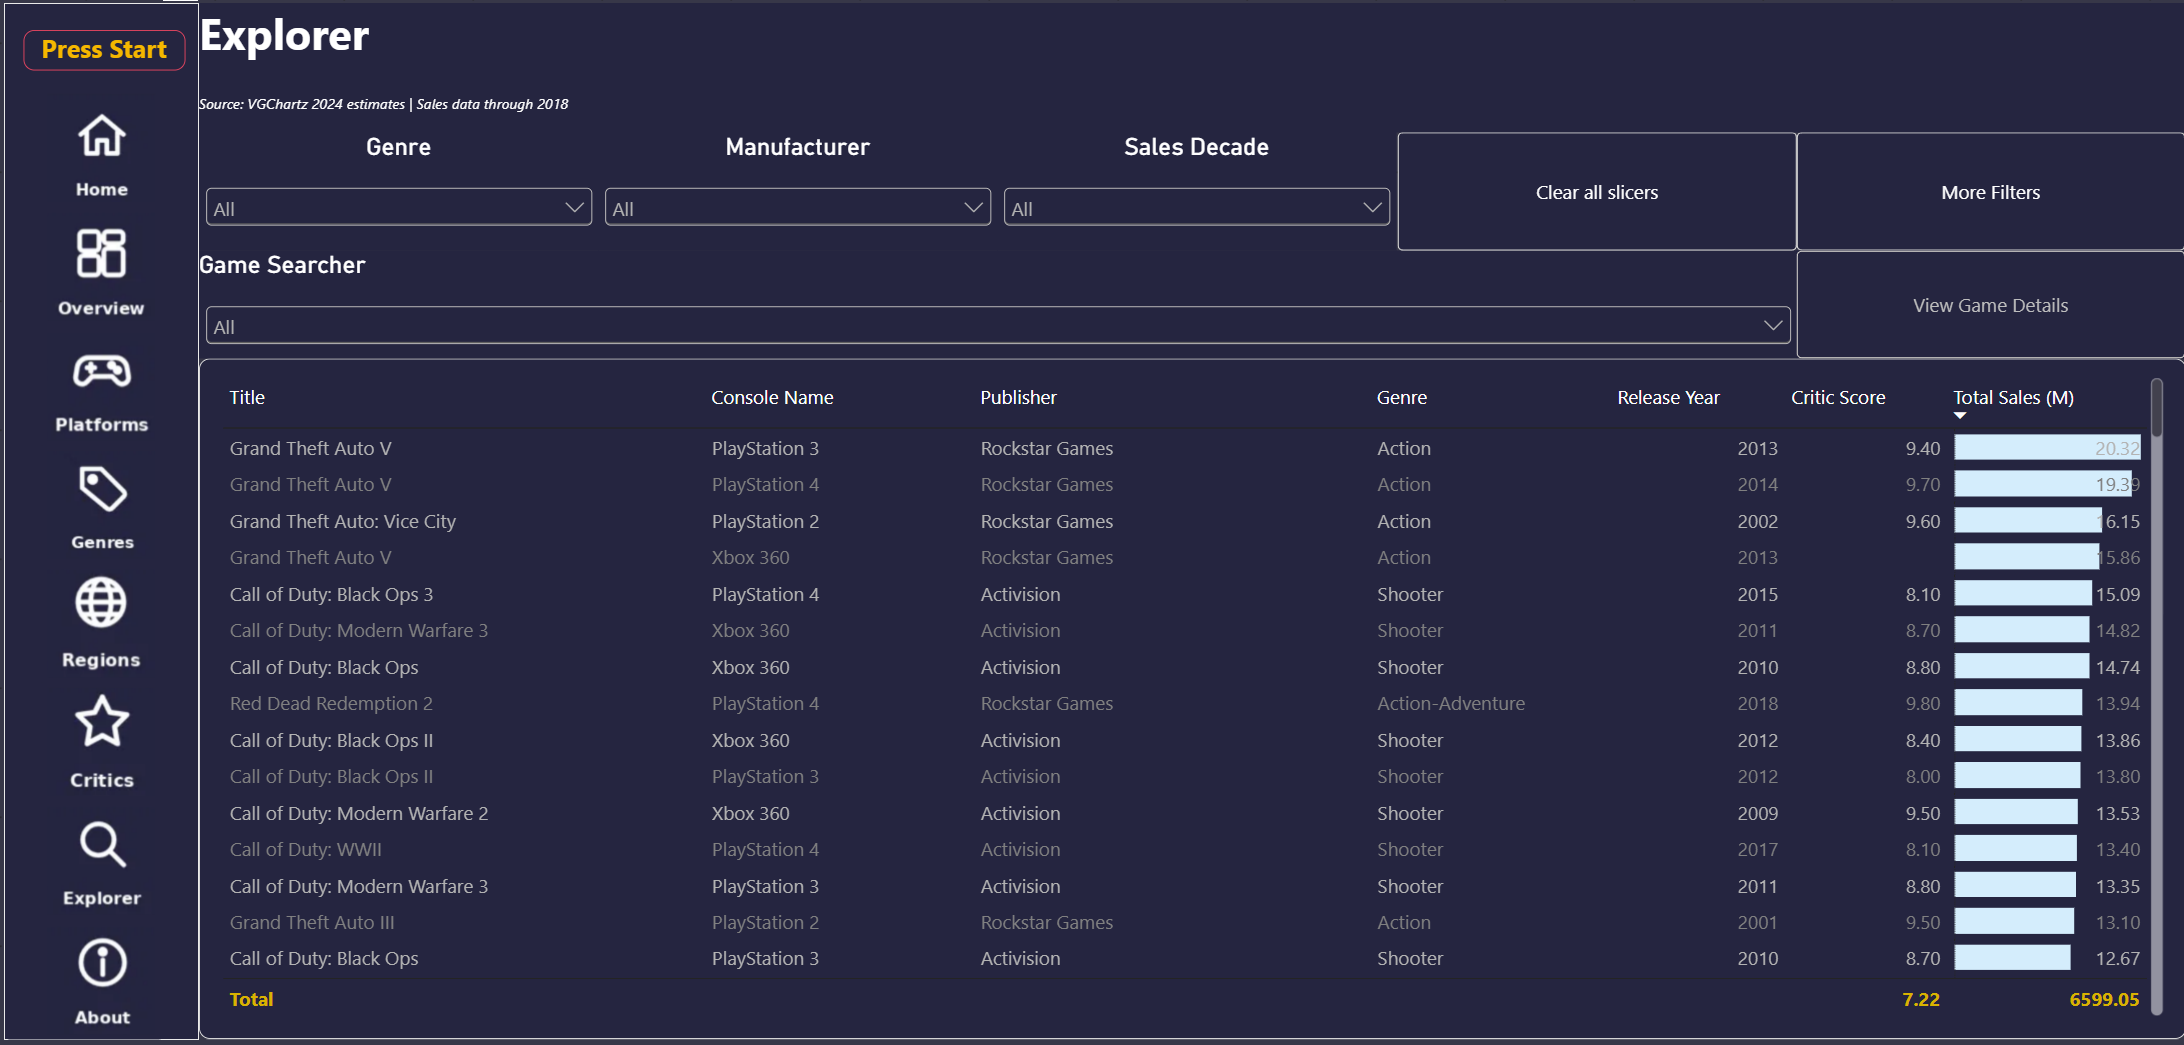

What the dashboard file says about the page in this screenshot:
{"tool":"powerbi","page":{"name":"Explorer","canvas":[1920,1080],"ordinal":6},"visuals":[{"type":"shape","box":[35.6,66.3,144,768],"z":1000},{"type":"textbox","box":[179.6,130.3,1472,32],"z":1000,"group":"g1"},{"type":"textbox","box":[49.6,86.3,120,30],"z":2000},{"type":"textbox","box":[179.6,66.3,1472,64],"z":3000},{"type":"slicer","title":"Game Searcher","fields":{"Values":["Games.Title"]},"box":[179.6,250.3,1184,80],"z":4000},{"type":"tableEx","fields":{"Values":["Games.Title","Console_Map.console_name","Games.publisher","Games.Genre","Games.Release Year","Avg(Games.critic_score)","Games.Total Sales (M)"]},"box":[179.6,330.3,1472,504],"z":5000},{"type":"actionButton","box":[35.6,130.3,144,88],"z":6000},{"type":"actionButton","box":[35.6,306.3,144,88],"z":7000},{"type":"actionButton","box":[35.6,218.3,144,88],"z":8000},{"type":"actionButton","box":[35.6,394.3,144,88],"z":9000},{"type":"actionButton","box":[35.6,482.3,144,88],"z":10000},{"type":"actionButton","box":[35.6,570.3,144,88],"z":11000},{"type":"actionButton","box":[35.6,658.3,144,88],"z":12000},{"type":"actionButton","box":[35.6,746.3,144,88],"z":13000},{"type":"slicer","title":"Genre","fields":{"Values":["Games.Genre"]},"box":[179.6,162.3,296,88],"z":14000},{"type":"slicer","title":"Manufacturer","fields":{"Values":["Console_Map.Manufacturer"]},"box":[475.6,162.3,296,88],"z":15000},{"type":"slicer","title":"Sales Decade","fields":{"Values":["Games.sales_decade"]},"box":[771.6,162.3,296,88],"z":16000},{"type":"actionButton","box":[1067.6,162.3,296,88],"z":17000},{"type":"actionButton","box":[1363.6,162.3,288,88],"z":18000},{"type":"actionButton","box":[1363.6,250.3,288,80],"z":18500},{"type":"group","id":"g1","title":"Group 1","box":[179.6,130.3,1472,32],"z":19000}]}

Visuals, with their boxes on the page's 1920x1080 design canvas (x1, y1, x2, y2). These are canvas units, not pixel positions in the 2184x1045 screenshot, which may show the page scaled, cropped or inside an application window:
shape: 36:66:180:834
textbox: 180:130:1652:162
textbox: 50:86:170:116
textbox: 180:66:1652:130
"Game Searcher" slicer: 180:250:1364:330
tableEx - Games.Title x Console_Map.console_name: 180:330:1652:834
actionButton: 36:130:180:218
actionButton: 36:306:180:394
actionButton: 36:218:180:306
actionButton: 36:394:180:482
actionButton: 36:482:180:570
actionButton: 36:570:180:658
actionButton: 36:658:180:746
actionButton: 36:746:180:834
"Genre" slicer: 180:162:476:250
"Manufacturer" slicer: 476:162:772:250
"Sales Decade" slicer: 772:162:1068:250
actionButton: 1068:162:1364:250
actionButton: 1364:162:1652:250
actionButton: 1364:250:1652:330
"Group 1" group: 180:130:1652:162
